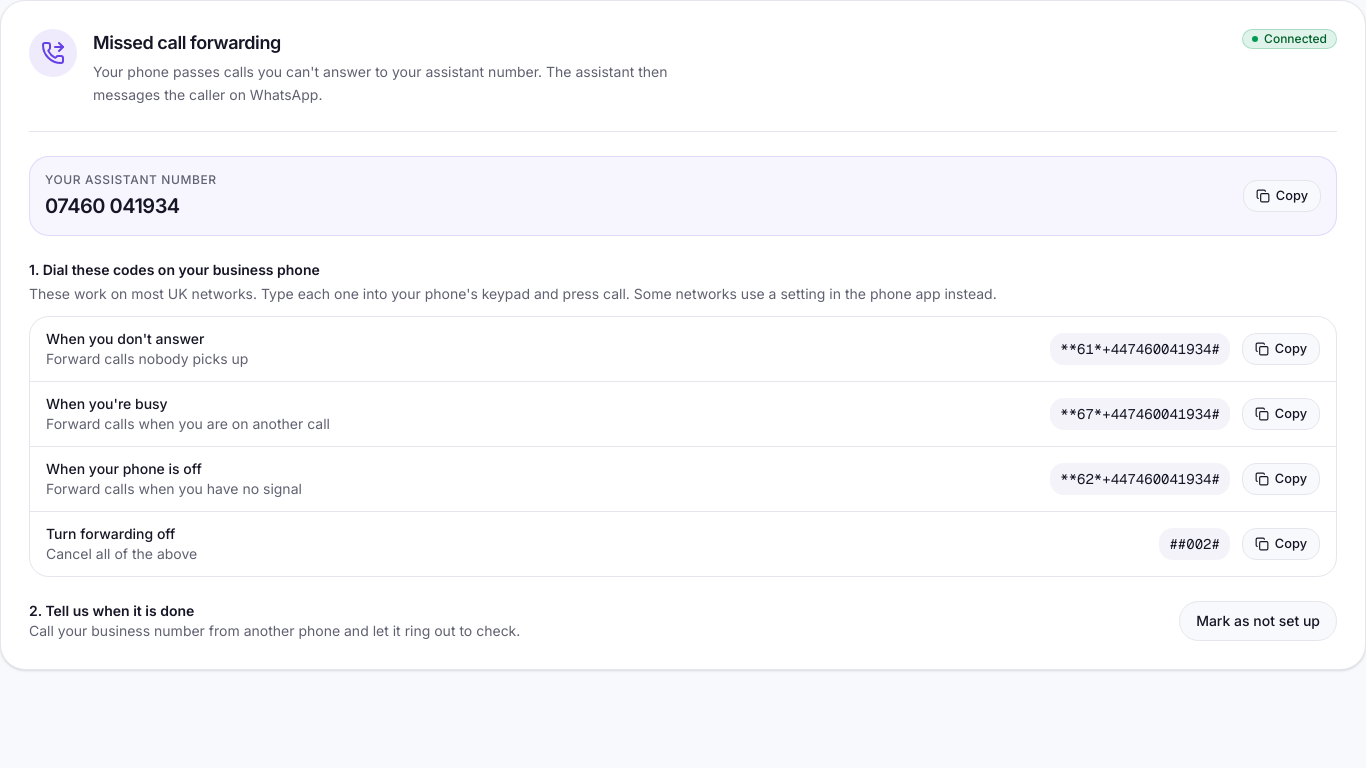
Test case: ForwardingCard › can be marked as not set up again
Expected: the text "Connected" is shown, top-left (1242, 29), bottom-right (1337, 49)
Click the button "Mark as not set up" at (1258, 620), box top-left (1179, 600), bottom-right (1337, 640)
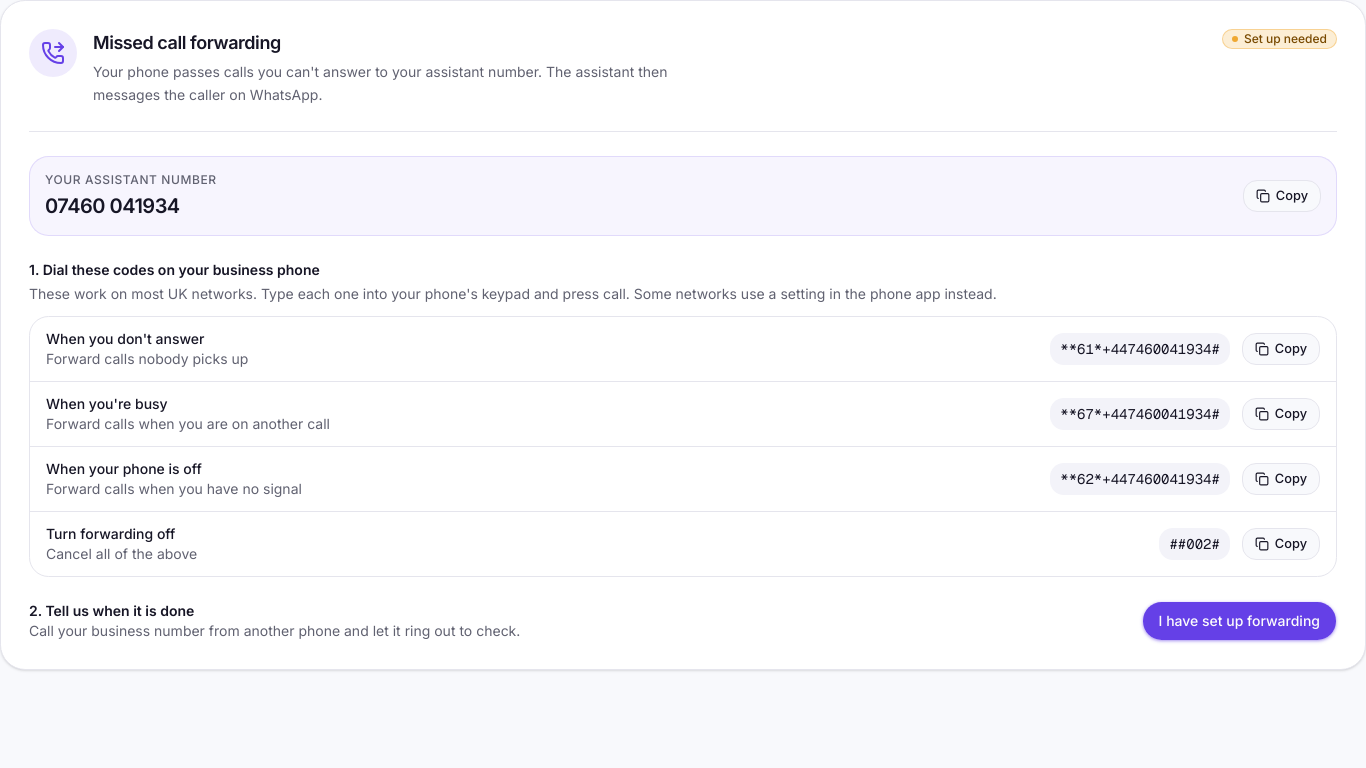
Expected: the text "Set up needed" is shown, top-left (1222, 29), bottom-right (1337, 49)
